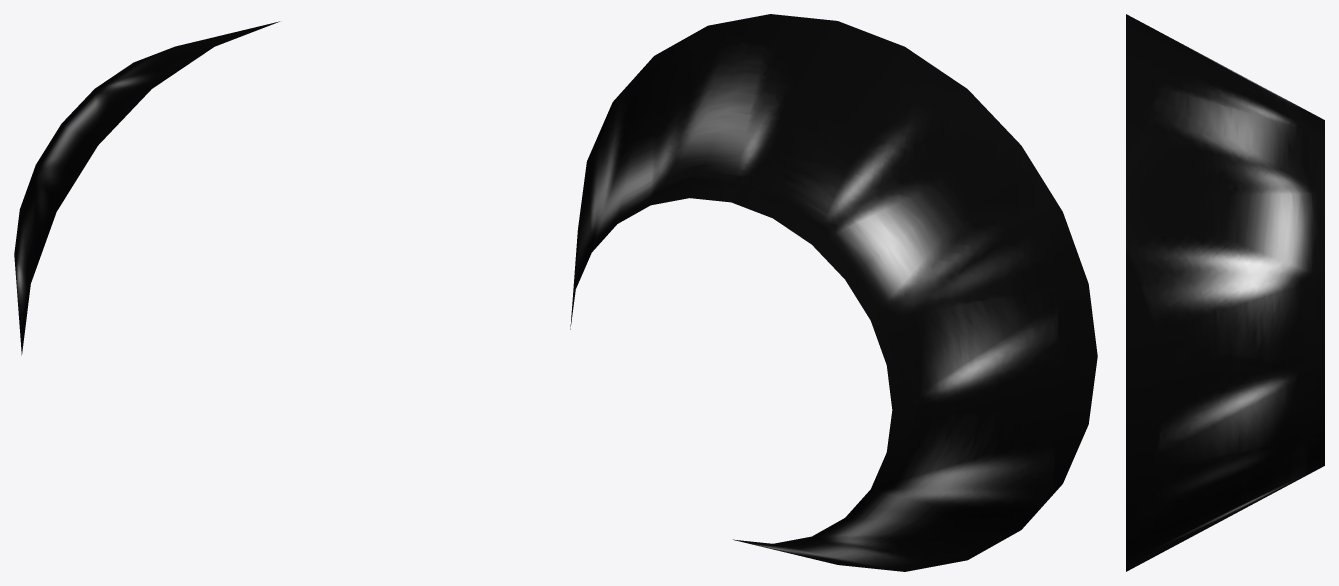
File: shockwave02.glb
3 views of the same model, side by side, from view 1: azimuth 30°, elevation 25°; view 2: azimuth 150°, elevation 25°; view 3: azimuth 270°, elevation 25° (orthographic). The views are drawn at different scales.
Visible parts, largest first — view 1: model_shockwave02; view 2: model_shockwave02; view 3: model_shockwave02.
Part boxes in pixels (x1=…): model_shockwave02: x1=14, y1=21, x2=279, y2=355; model_shockwave02: x1=570, y1=14, x2=1097, y2=571; model_shockwave02: x1=1126, y1=14, x2=1324, y2=571.
Size of the model in its own units: 2.26 by 2.26 by 0.8013.
1 material, 1 textured.
